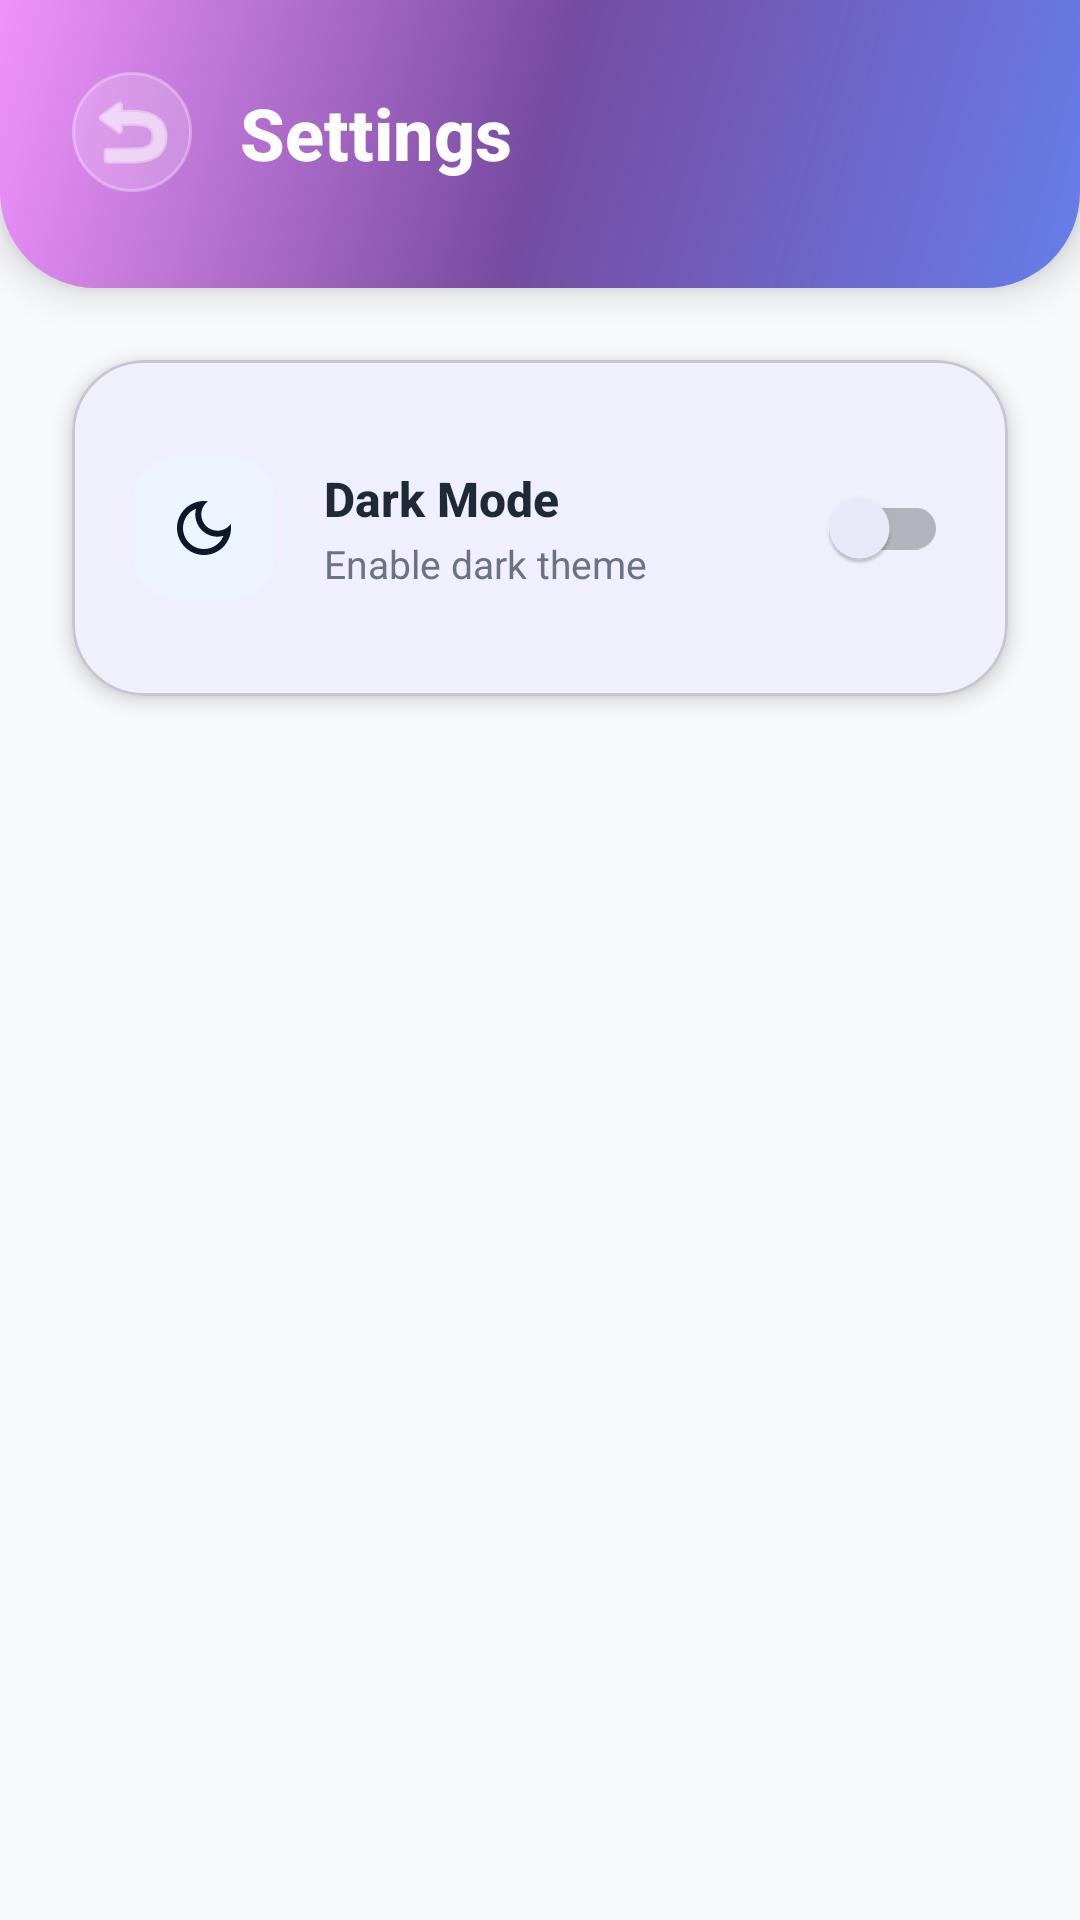

Icon click points for this 1080px×1920px phone screenshot, format [x,y]:
Back: [133,132]
